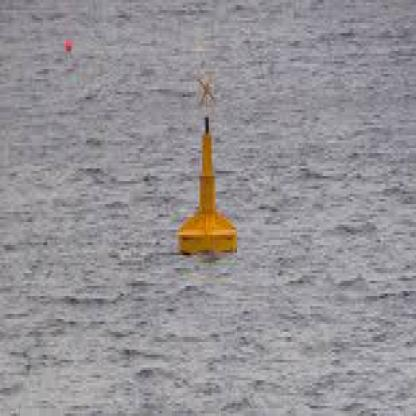buoy: (174, 48, 241, 263)
